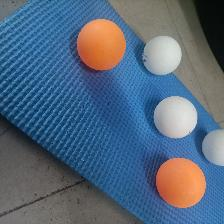WhiteBall: (153, 96, 197, 137), (142, 35, 181, 75), (201, 128, 224, 165)
YellowBall: (154, 158, 206, 208), (76, 19, 125, 70)
